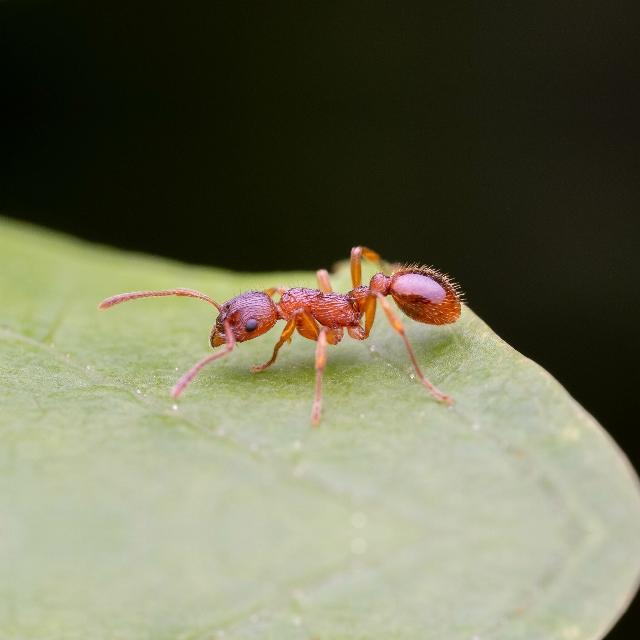Myrmica: (148, 232, 476, 390)
